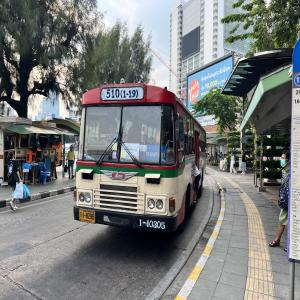BMTA-bus: (72, 83, 207, 235)
Bus Line Number: (101, 87, 144, 101)
Bus Side Number: (136, 216, 169, 230)
Destination Sign: (138, 144, 167, 161)
